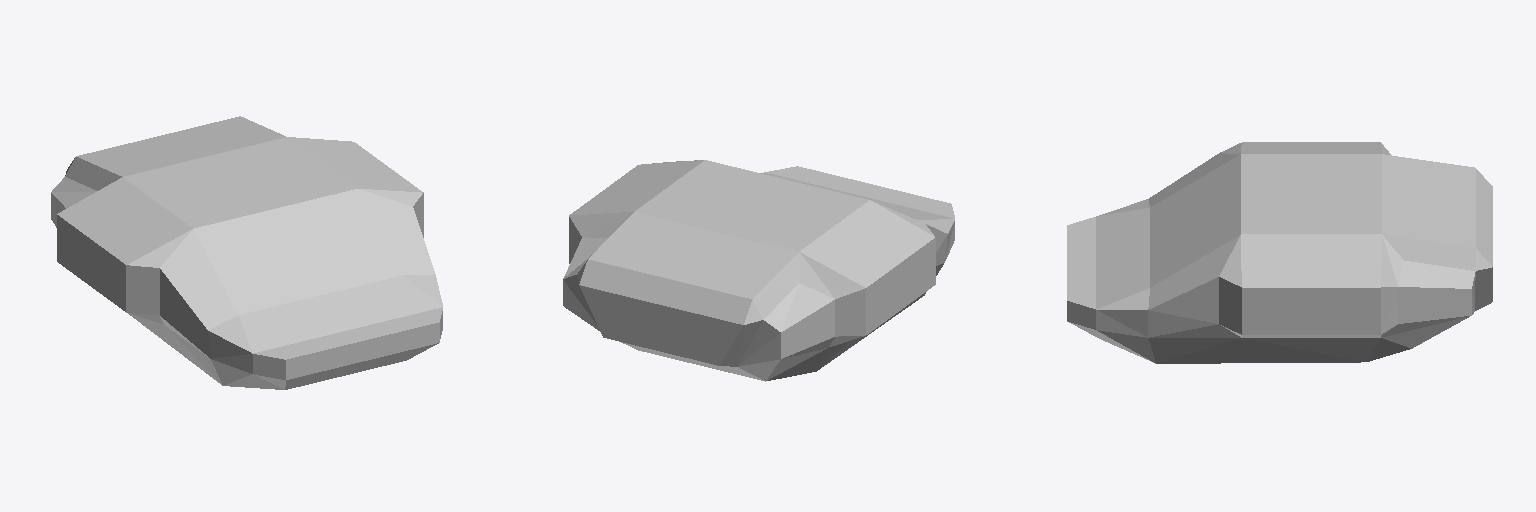
The model's file is LOD0-UVFlip.obj.
The picture shows the model from 3 angles: view 1: azimuth 30°, elevation 25°; view 2: azimuth 150°, elevation 25°; view 3: azimuth 270°, elevation 25°; orthographic projection.
Parts seen in each view (by area): view 1: Hgn_BattleCruiserKineticBurstCannon; view 2: Hgn_BattleCruiserKineticBurstCannon; view 3: Hgn_BattleCruiserKineticBurstCannon.
Boxes of the visible parts, x1,y1,x2,y2 form: Hgn_BattleCruiserKineticBurstCannon: [51, 116, 442, 389]; Hgn_BattleCruiserKineticBurstCannon: [563, 160, 954, 381]; Hgn_BattleCruiserKineticBurstCannon: [1067, 142, 1492, 363].
Size of the model in its own units: 30.93 by 12.27 by 38.43.